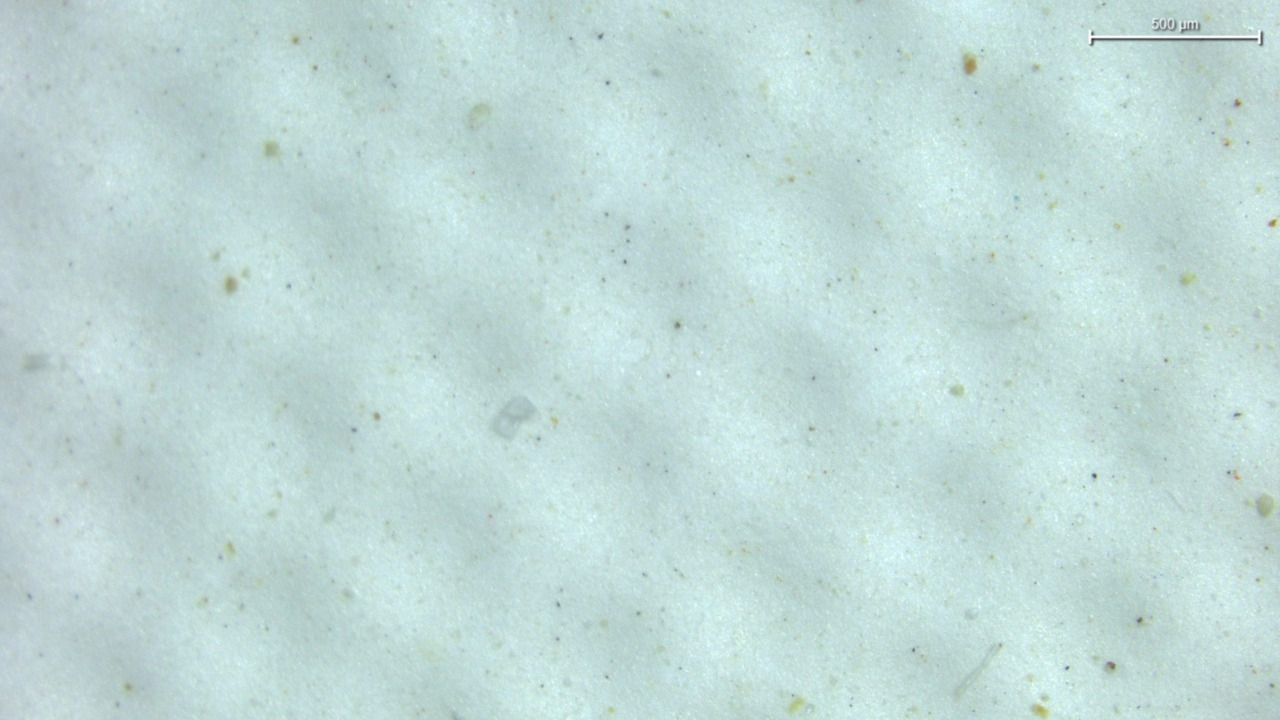microplastic_fragment: (491, 396, 536, 439)
